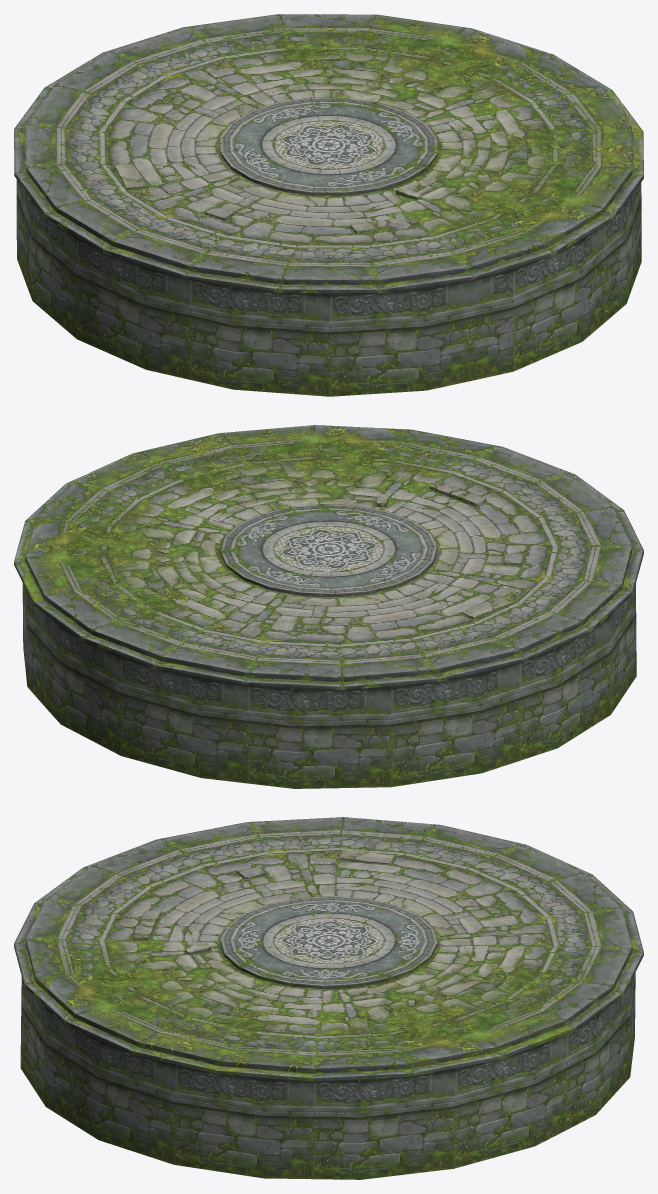
The model's file is jd_taizi_1.FBX.
The picture shows the model from 3 angles, top to bottom: view 1: azimuth 30°, elevation 25°; view 2: azimuth 150°, elevation 25°; view 3: azimuth 270°, elevation 25°; orthographic projection. The views are drawn at different scales.
Parts seen in each view (by area): view 1: jd_taizi_1; view 2: jd_taizi_1; view 3: jd_taizi_1.
Part boxes in pixels (x1=…): jd_taizi_1: x1=14, y1=14, x2=643, y2=396; jd_taizi_1: x1=14, y1=425, x2=643, y2=788; jd_taizi_1: x1=14, y1=817, x2=643, y2=1179.
Size of the model in its own units: 2508 by 517 by 2542.
